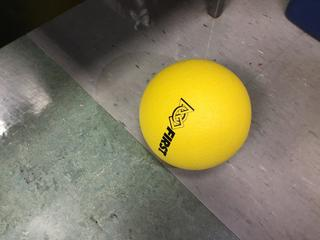power_cell: (133, 48, 259, 173)
